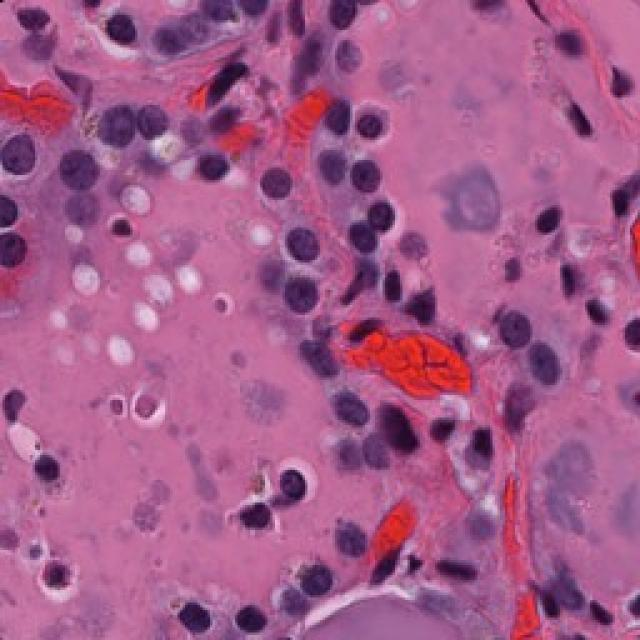normal: (265, 297, 347, 381), (249, 161, 323, 231), (52, 141, 117, 219), (79, 78, 141, 147), (329, 374, 399, 433), (271, 251, 325, 316), (130, 78, 177, 141), (279, 214, 330, 270)
